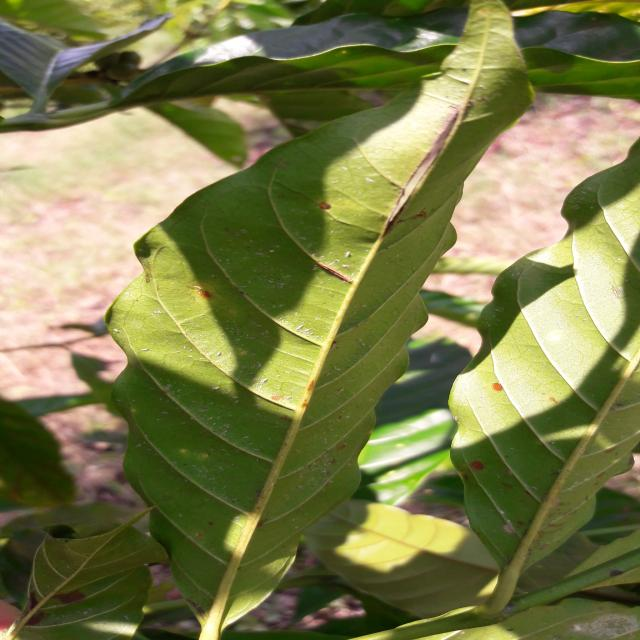Enfermedad-Roya: (107, 0, 538, 640)
